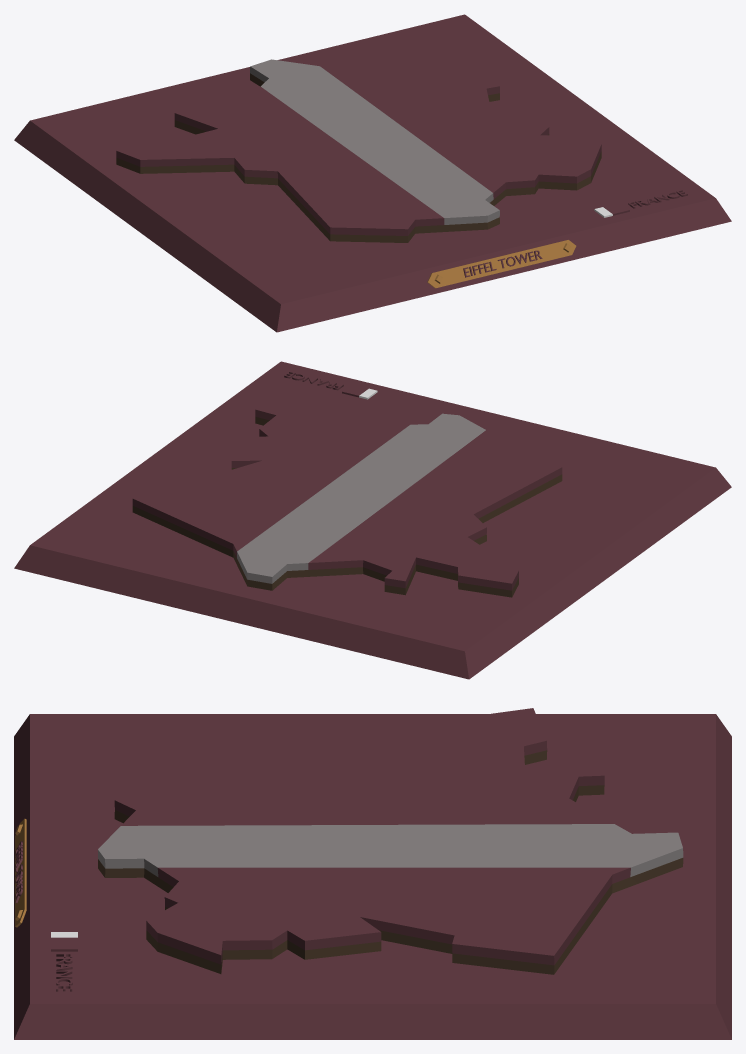
Rendered from SM_Island_EiffelTower_Landmark.fbx.
The picture shows the model from 3 angles, top to bottom: view 1: azimuth 30°, elevation 25°; view 2: azimuth 150°, elevation 25°; view 3: azimuth 270°, elevation 25°; orthographic projection. The views are drawn at different scales.
Parts seen in each view (by area): view 1: Island_EiffelTower_Landmark; view 2: Island_EiffelTower_Landmark; view 3: Island_EiffelTower_Landmark.
Boxes of the visible parts, x1,y1,x2,y2 form: Island_EiffelTower_Landmark: [14, 14, 731, 332]; Island_EiffelTower_Landmark: [14, 361, 731, 679]; Island_EiffelTower_Landmark: [14, 708, 731, 1039].
Bounding box in the file's own units: 68.5 × 5.09 × 68.5.
